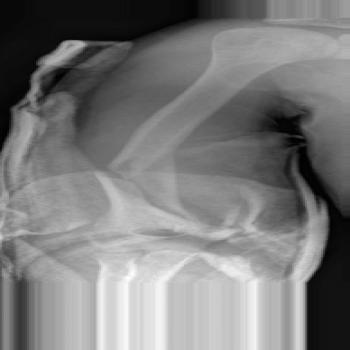Fracture: (76, 160, 159, 188)
